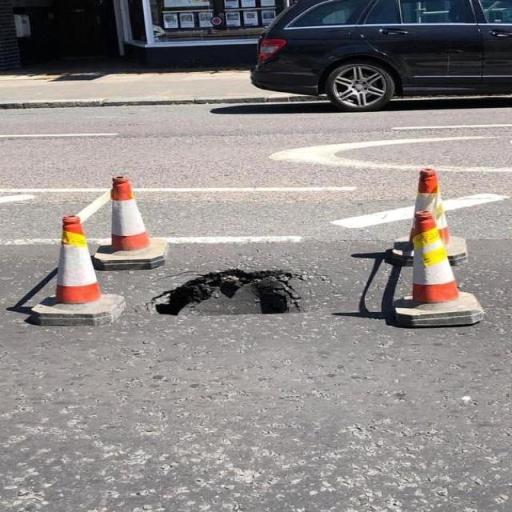Concentric_Crack: (149, 269, 300, 314)
